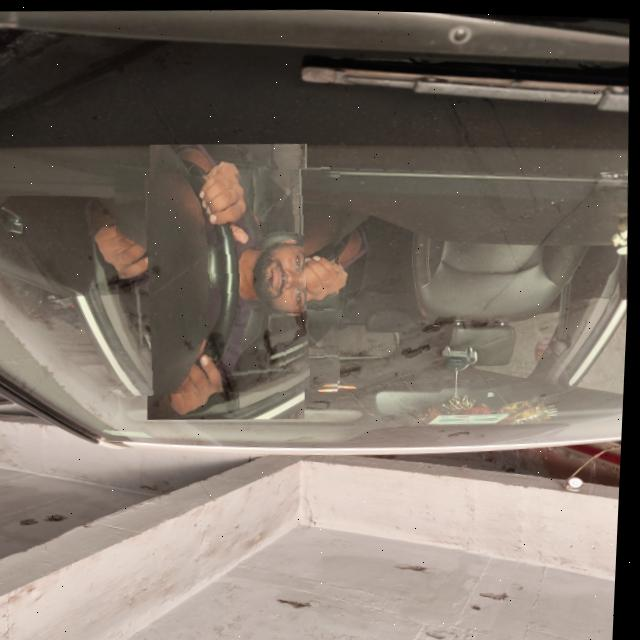no-seatbelt: (110, 162, 349, 397)
